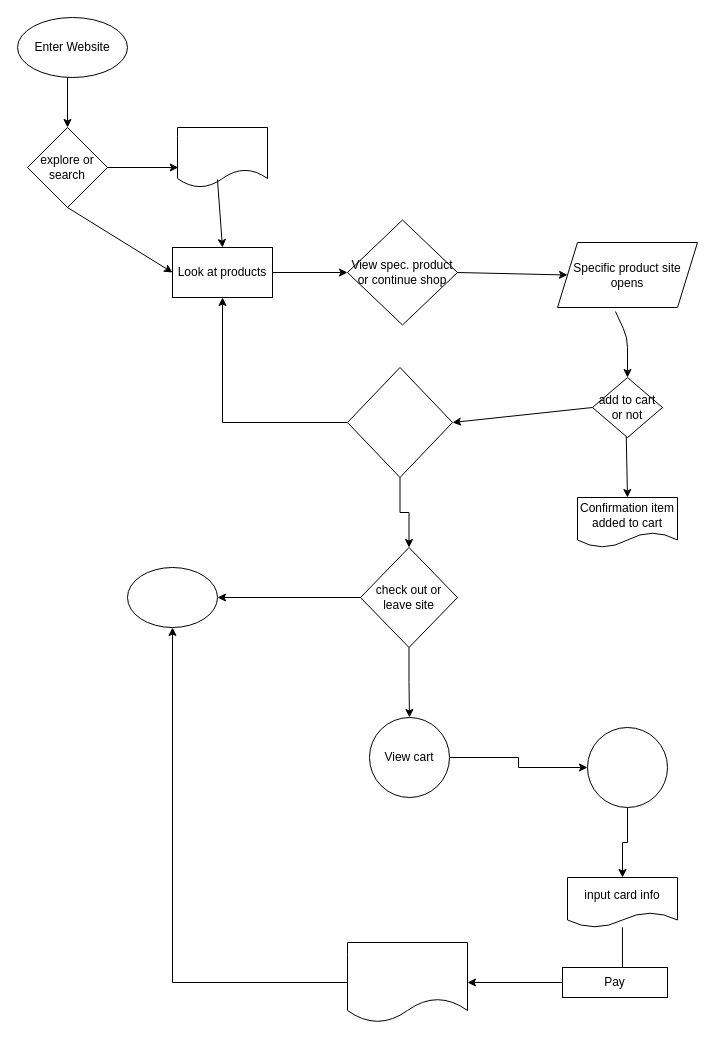
This 715x1040 diagram has some shape labels left out. The box of each missing label's shape, as (x1, y1, x2, y2) in pixels:
check out/cont shopping: (346, 366, 452, 478)
confirmation screen and email receipt: (346, 942, 468, 1022)
Input product search: (176, 126, 268, 188)
leave site: (126, 566, 218, 628)
View payment: (586, 726, 668, 808)
